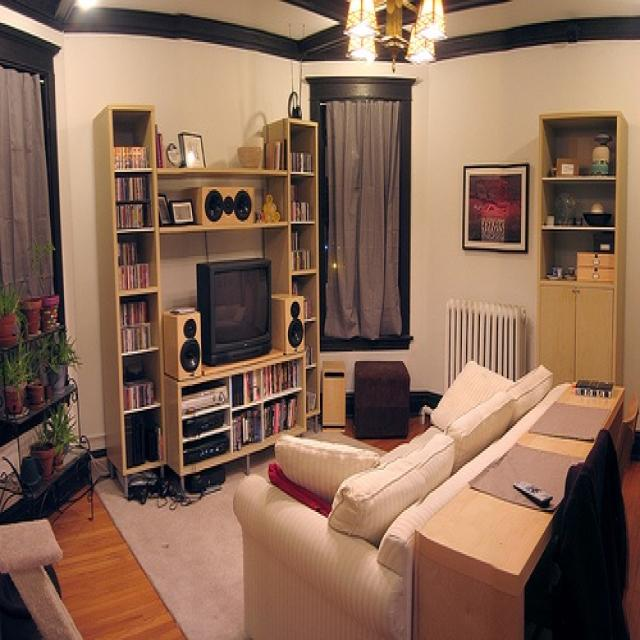pottedplant: (28, 240, 62, 328), (41, 398, 75, 462), (45, 330, 77, 396), (23, 342, 49, 407), (0, 284, 23, 352), (5, 346, 27, 414), (31, 438, 54, 476), (20, 290, 40, 332)
sofa: (236, 359, 570, 636)
tvmonitor: (192, 256, 271, 367)
